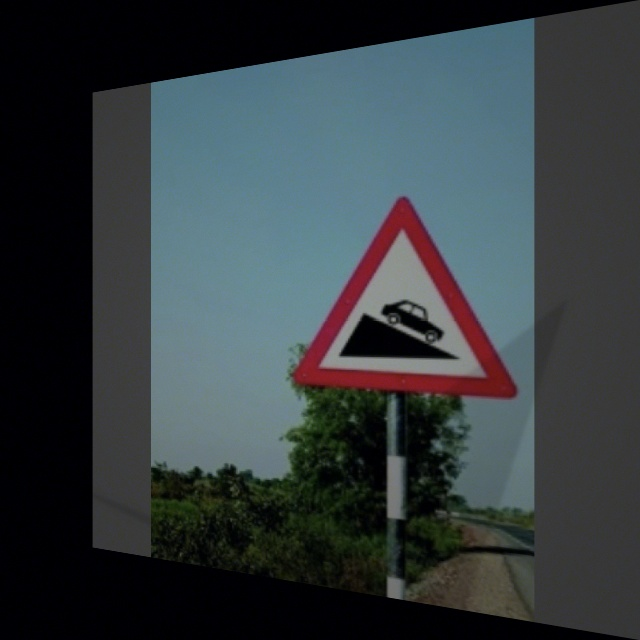Steep_Descent: (294, 189, 519, 399)
